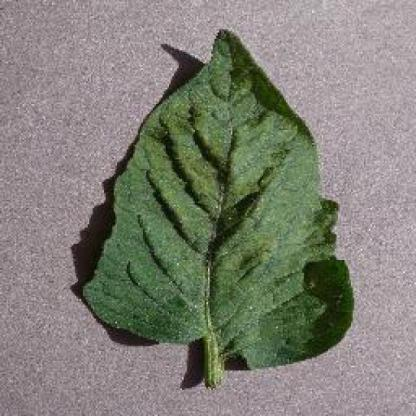Tomato_Spider_Mites: (81, 31, 352, 368)
